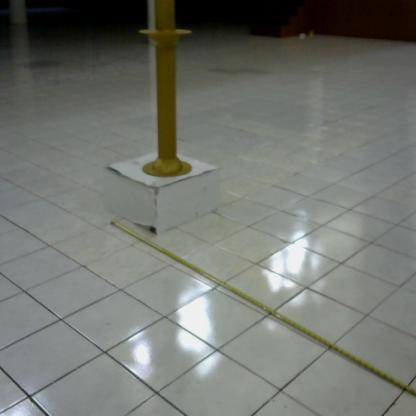pole: (131, 1, 203, 186)
